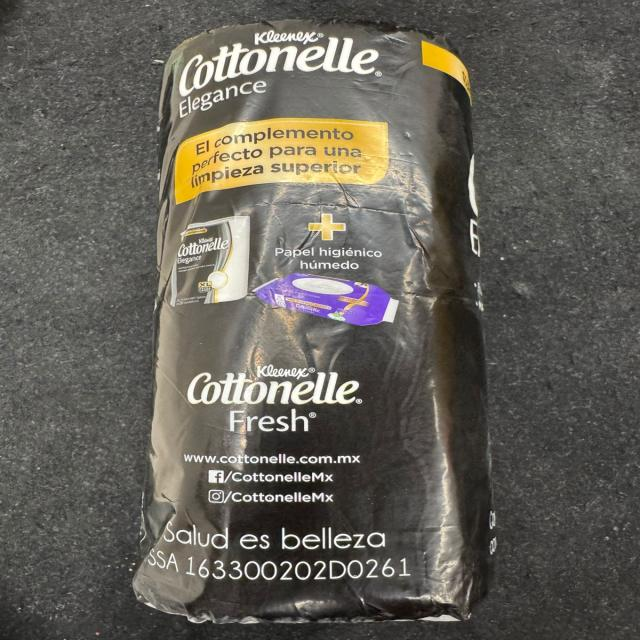Higienico Cottonelle Elegance XL 252h: (132, 24, 501, 627)
